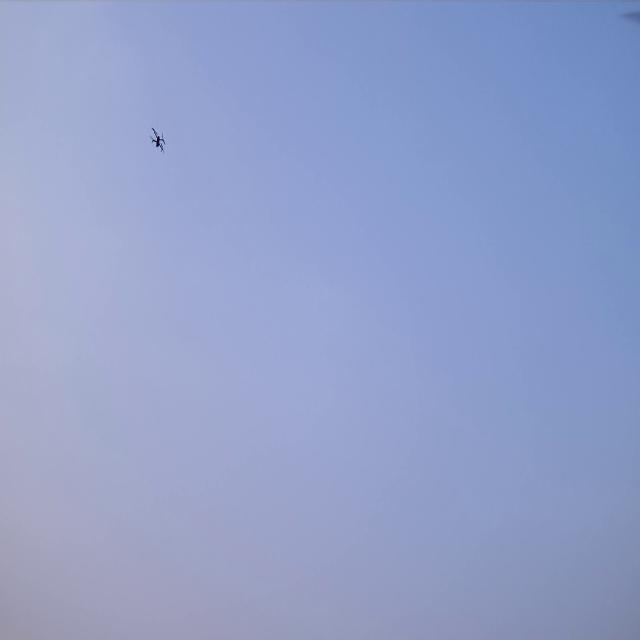UAV: (150, 124, 167, 156)
